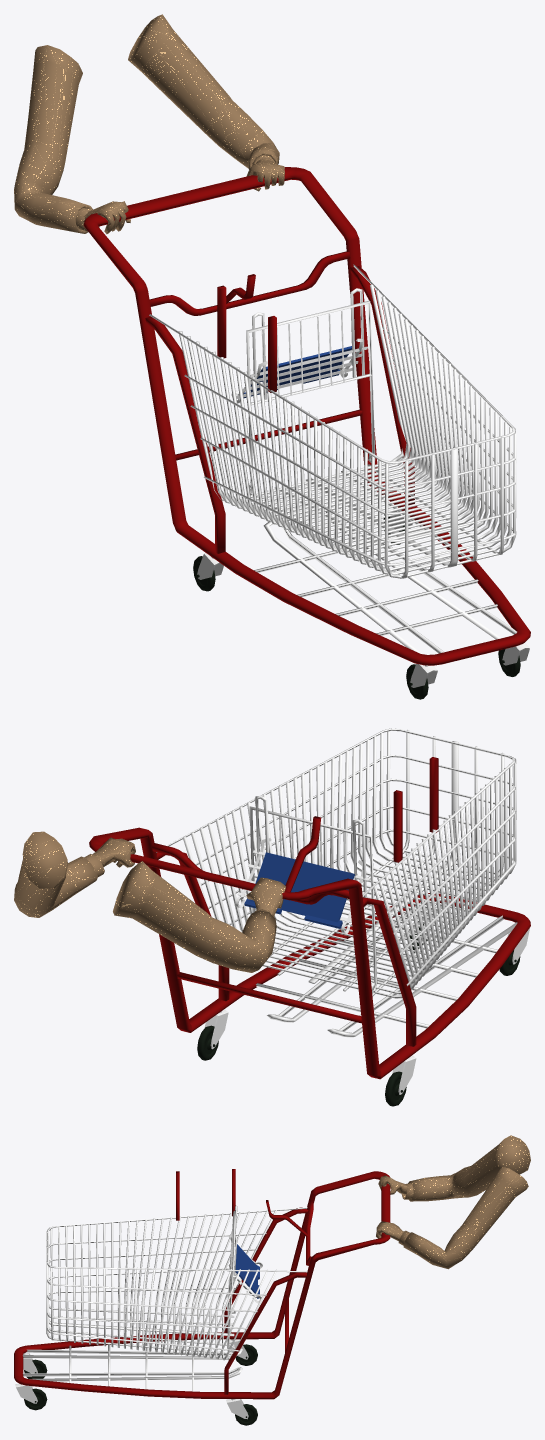
The model's file is Kart.fbx.
The picture shows the model from 3 angles, top to bottom: view 1: azimuth 30°, elevation 25°; view 2: azimuth 150°, elevation 25°; view 3: azimuth 270°, elevation 25°; orthographic projection. The views are drawn at different scales.
Parts seen in each view (by area): view 1: Handle, fgh; view 2: Handle, fgh; view 3: Handle, fgh.
Part boxes in pixels (x1,y1,x2,y2): Handle: [14, 14, 530, 699]; fgh: [149, 264, 516, 578]; Handle: [14, 757, 530, 1106]; fgh: [156, 728, 516, 998]; Handle: [14, 1135, 530, 1425]; fgh: [46, 1207, 307, 1360].
Bounding box in the file's own units: 3.61 × 5.19 × 9.8.
5 materials, 1 textured.
